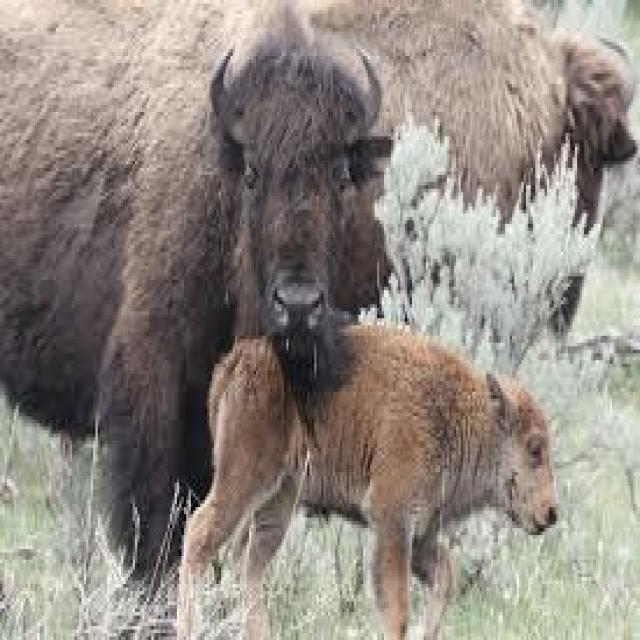bison: (179, 322, 554, 637)
